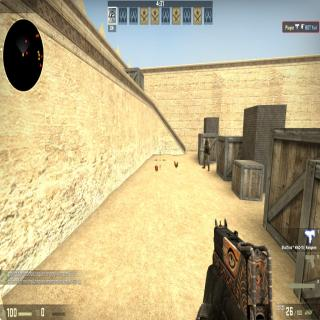CT-Body: (202, 138, 210, 170)
CT-Head: (204, 138, 208, 144)
